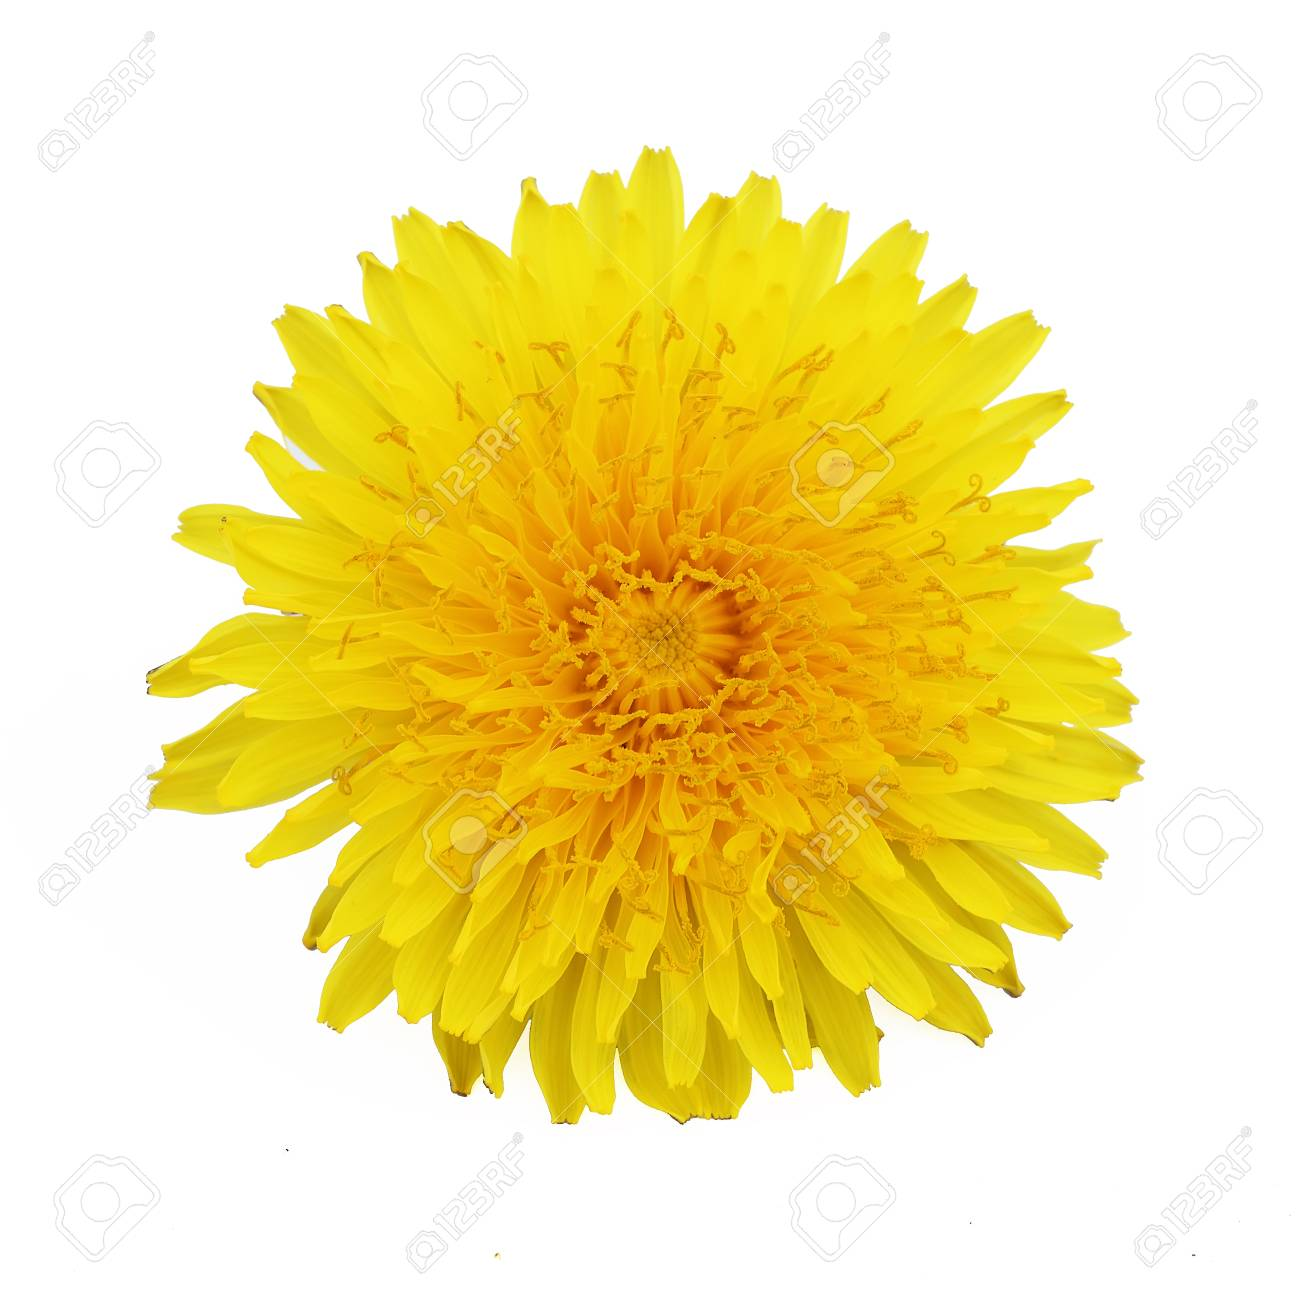dandelion: (210, 232, 1145, 1154)
